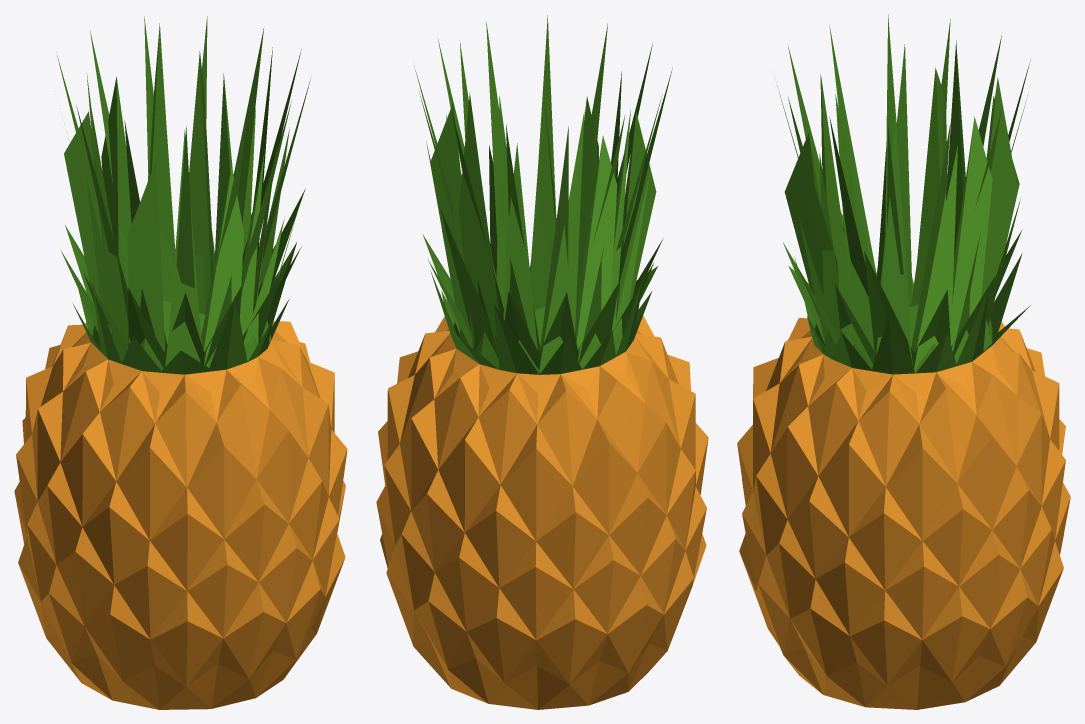
File: pineapple.fbx
3 renders of one model, left to right at view 1: azimuth 30°, elevation 25°; view 2: azimuth 150°, elevation 25°; view 3: azimuth 270°, elevation 25°, orthographic.
Visible parts, largest first — view 1: Pineapple; view 2: Pineapple; view 3: Pineapple.
Part boxes in pixels (<box>): Pineapple: <box>14,16,347,709</box>; Pineapple: <box>376,15,708,709</box>; Pineapple: <box>737,14,1070,709</box>.
Bounding box in the file's own units: 227 × 455 × 229.
